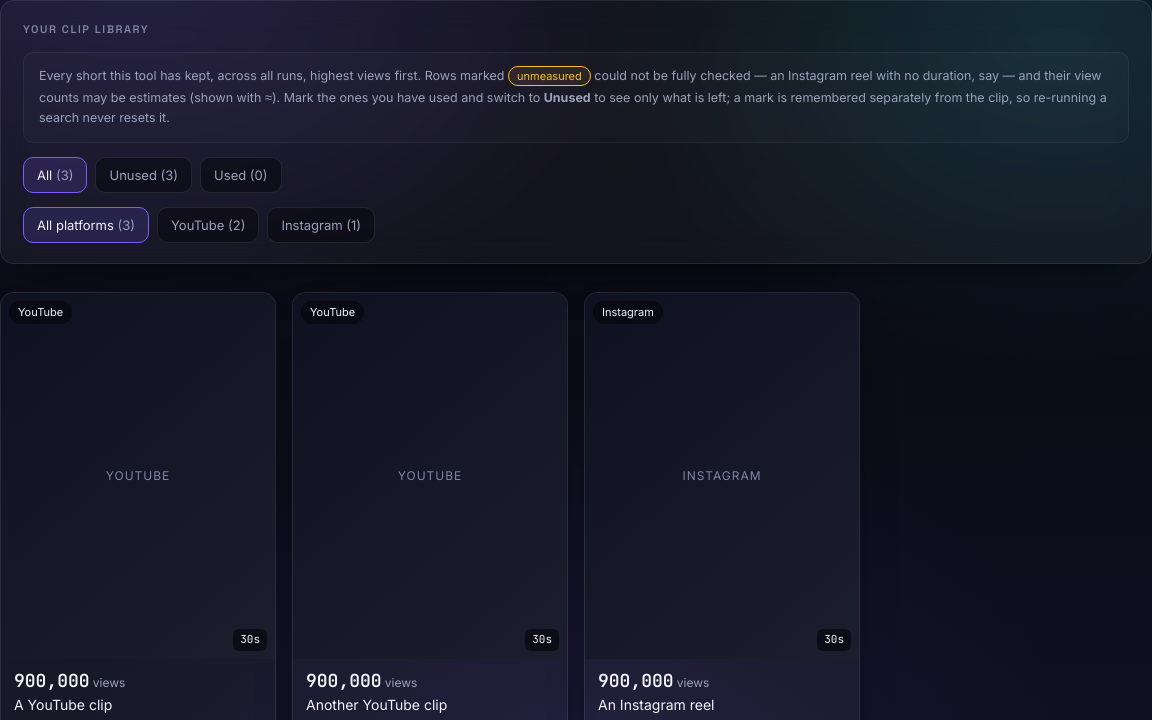
Test case: the library platform filter › narrows the list to one platform when its chip is picked
This screenshot has width=1152, height=720.
Click the tab "Instagram (1)". click: (321, 225)
box: [267,207,375,243]
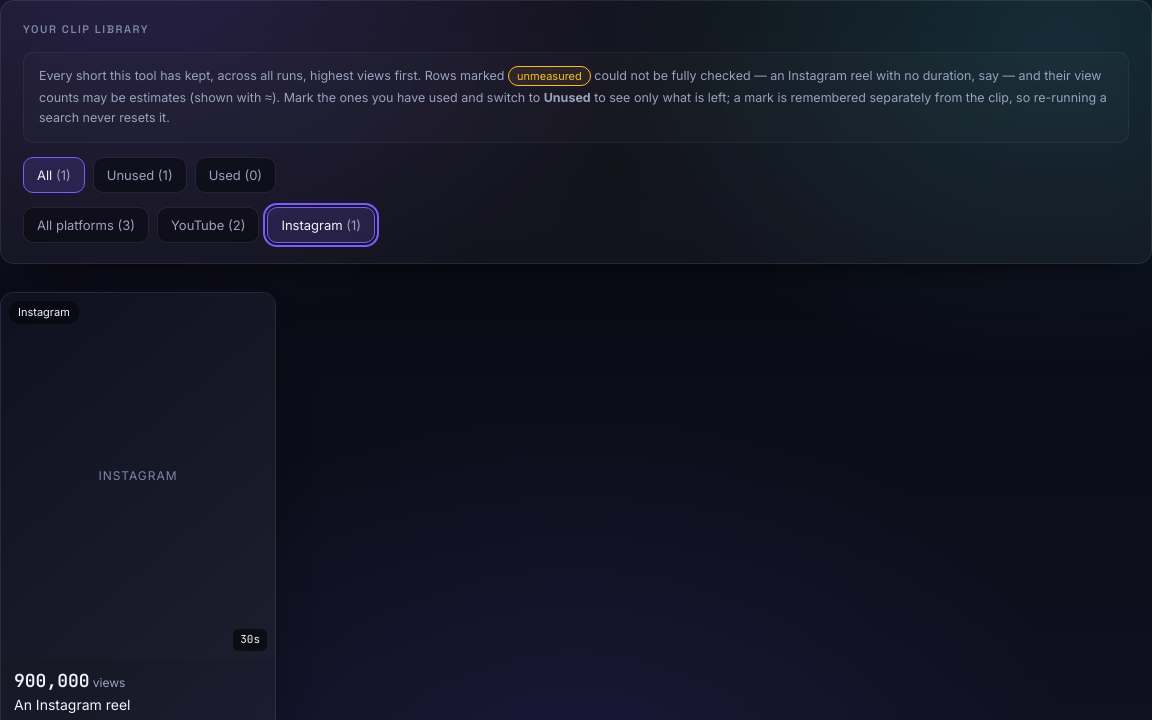
Expected: the link "An Instagram reel" is shown, [14,696,130,713]
Result: the link "A YouTube clip" is gone
Result: the link "Another YouTube clip" is gone
